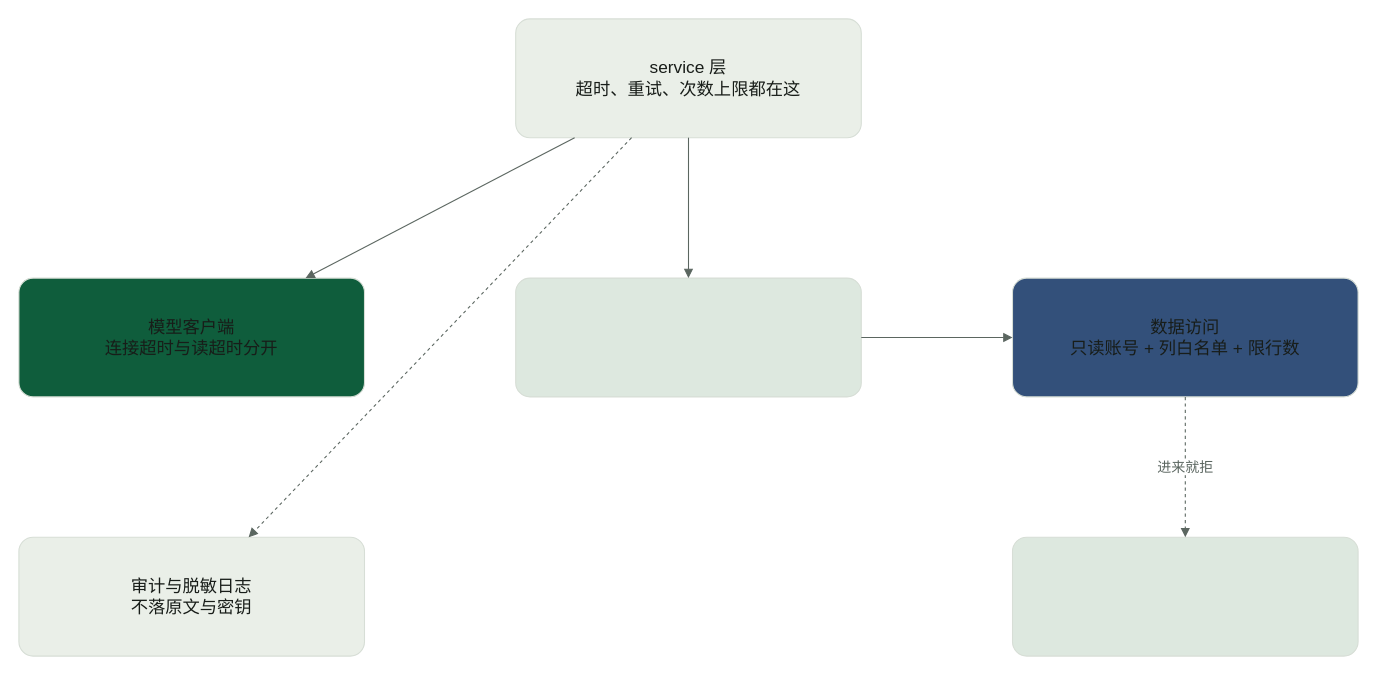
The diagram is 1377 pixels wide and 675 high, and some of its shapes have lost their labels. Here are the shapes that lost their labels. From the top down, the centre of each, then its label:
At [688,337]: "回合预算 最多调几次，超了就断".
At [1184,596]: "原始 SQL / 任意 URL 一律拒绝，并回可行动的错误".
